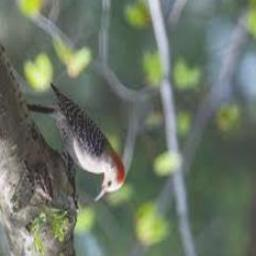Woodpecker: (25, 84, 124, 204)
